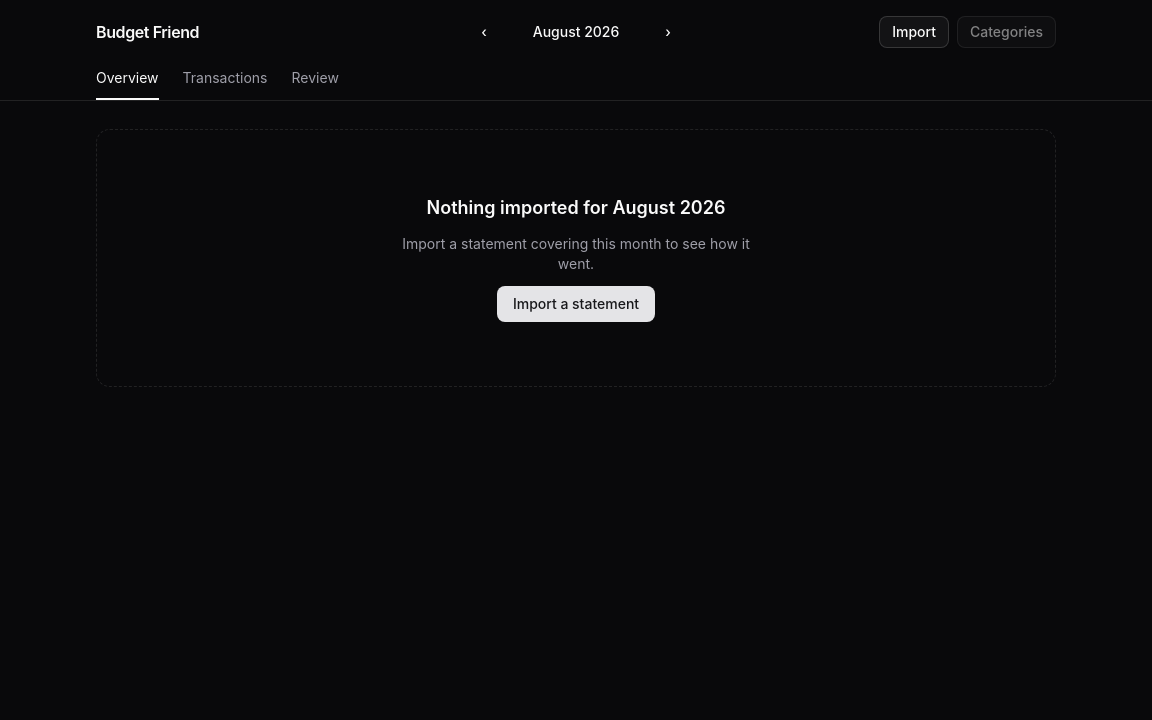
Scenario: a month with no data points at import
Expected: the heading "Nothing imported for August 2026" is shown, top-left (426, 194), bottom-right (725, 222)
What coordinates should you click on to do the following:
click the button "Import a statement"
I would click on:
 (576, 304)
Its box is top-left (497, 286), bottom-right (655, 322).
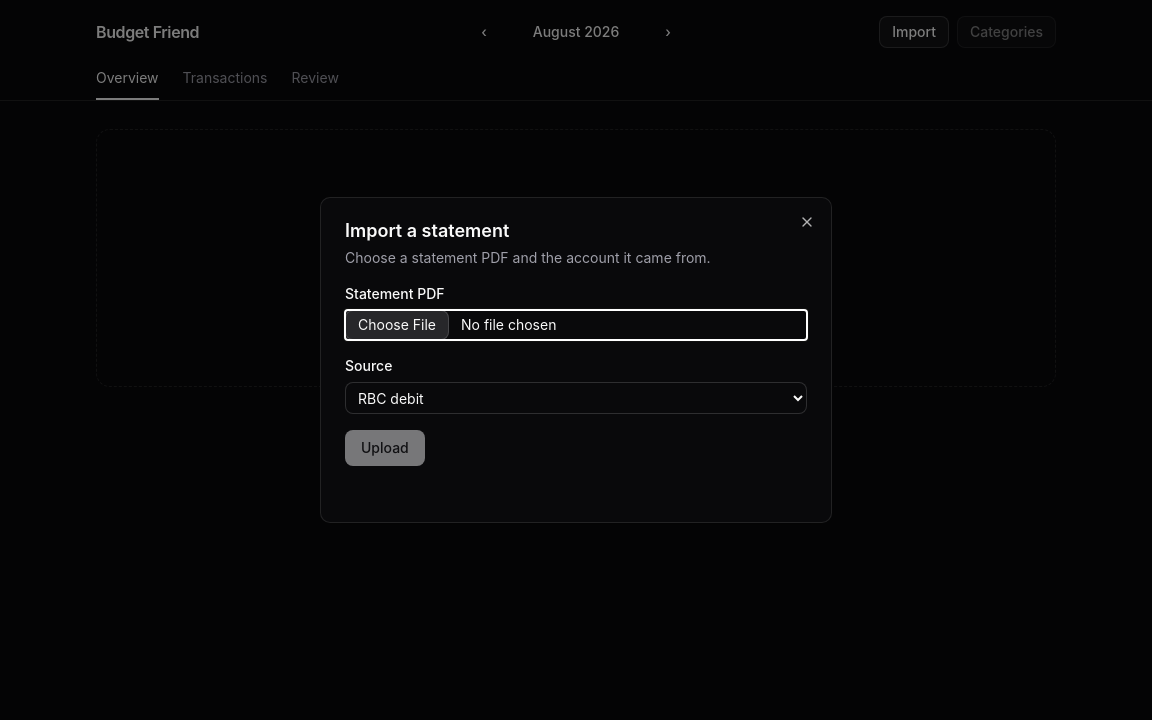
Expected: the dialog "Import a statement" is shown, top-left (320, 197), bottom-right (832, 523)
